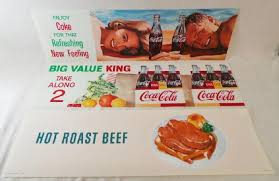coke: (142, 12, 166, 59)
